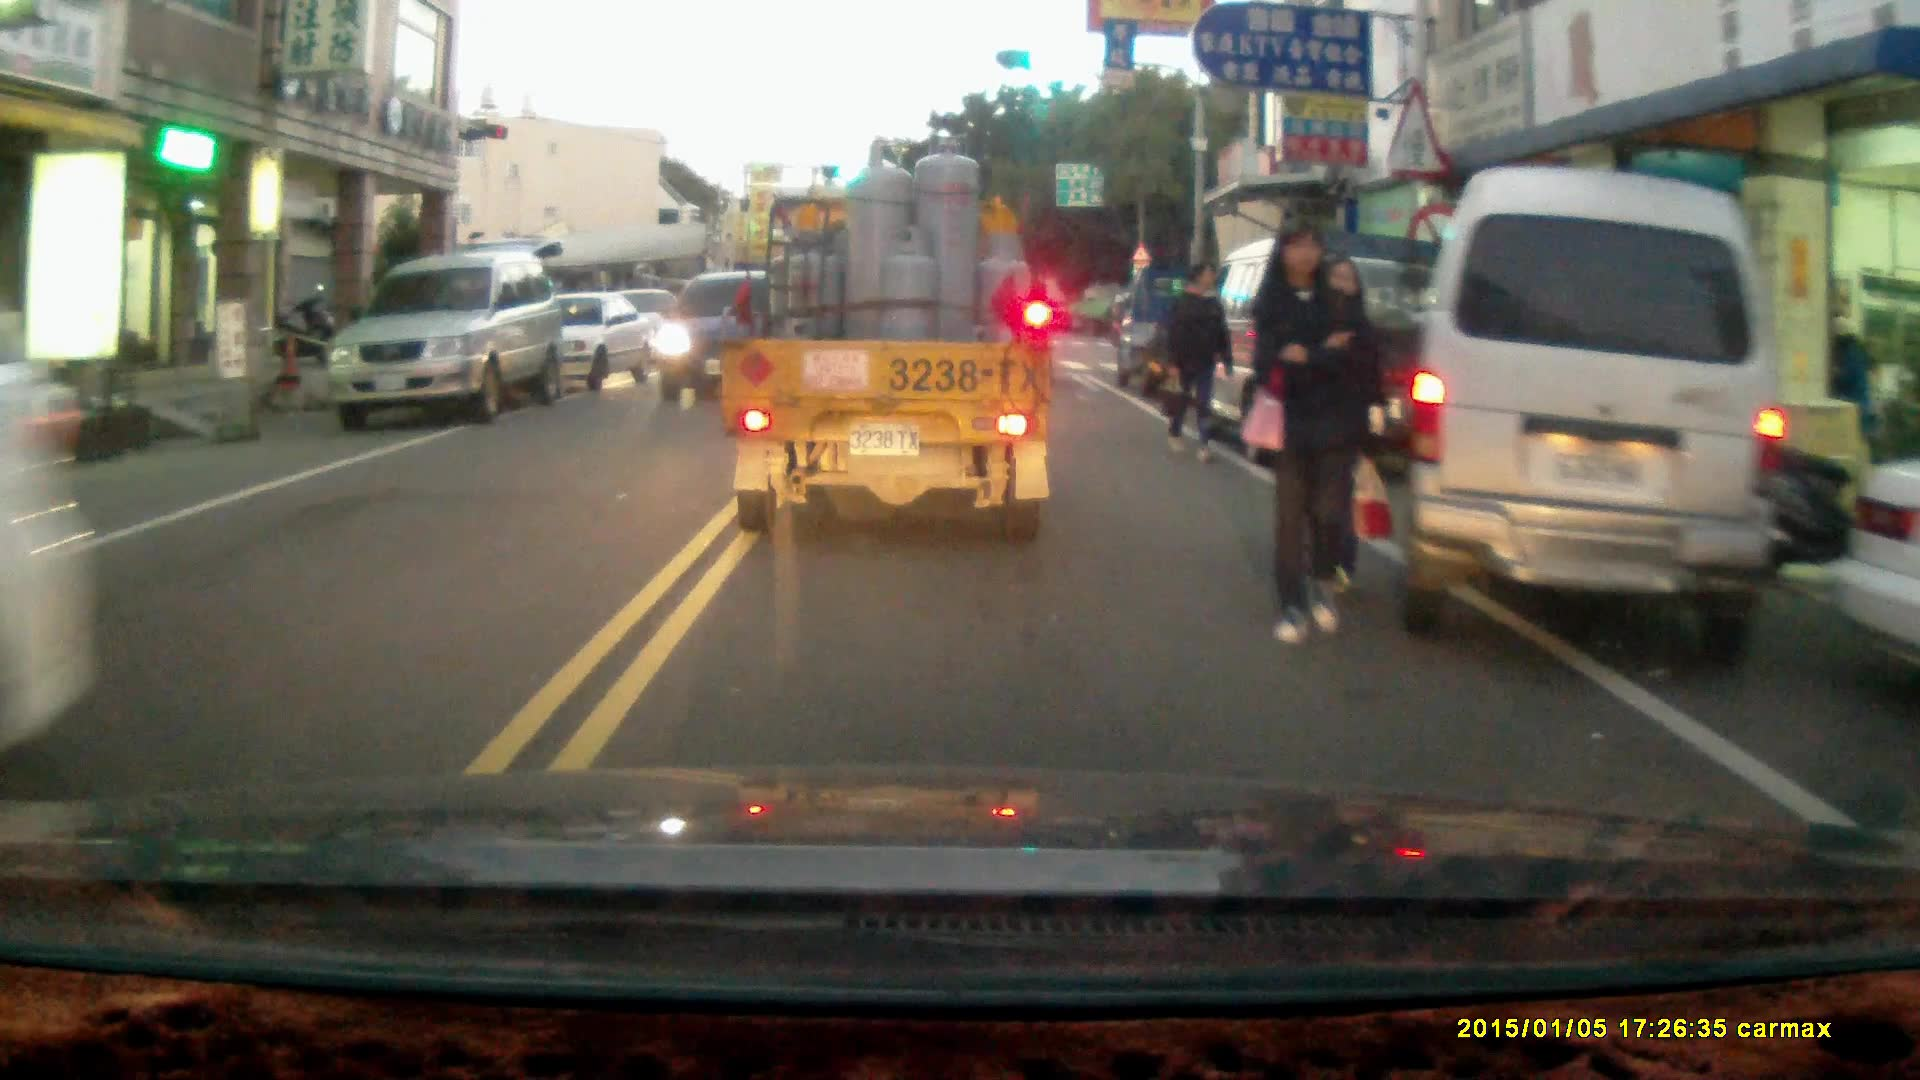pedestrian: (1250, 218, 1372, 645), (1159, 257, 1229, 465)
vehicle: (1398, 166, 1804, 664), (715, 129, 1055, 534), (1182, 219, 1480, 462), (331, 246, 570, 433), (654, 265, 806, 408), (501, 291, 659, 394)
